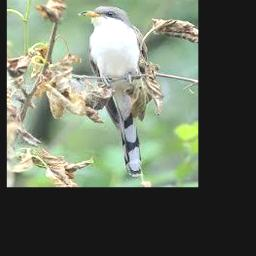Cuckoo: (78, 5, 147, 177)
